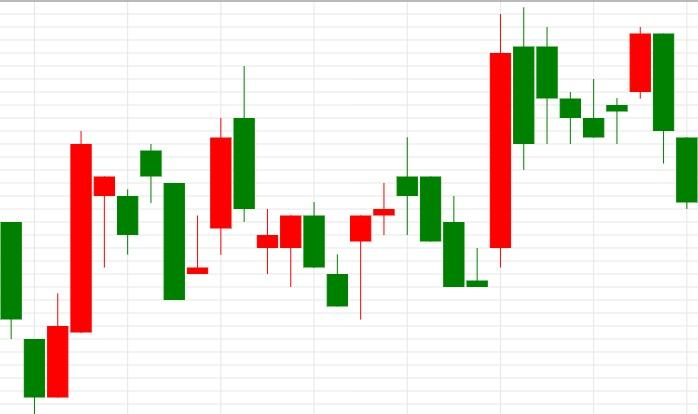hanging_man_fall: (23, 131, 116, 413)
three_black_crows_fall: (442, 8, 605, 288)
